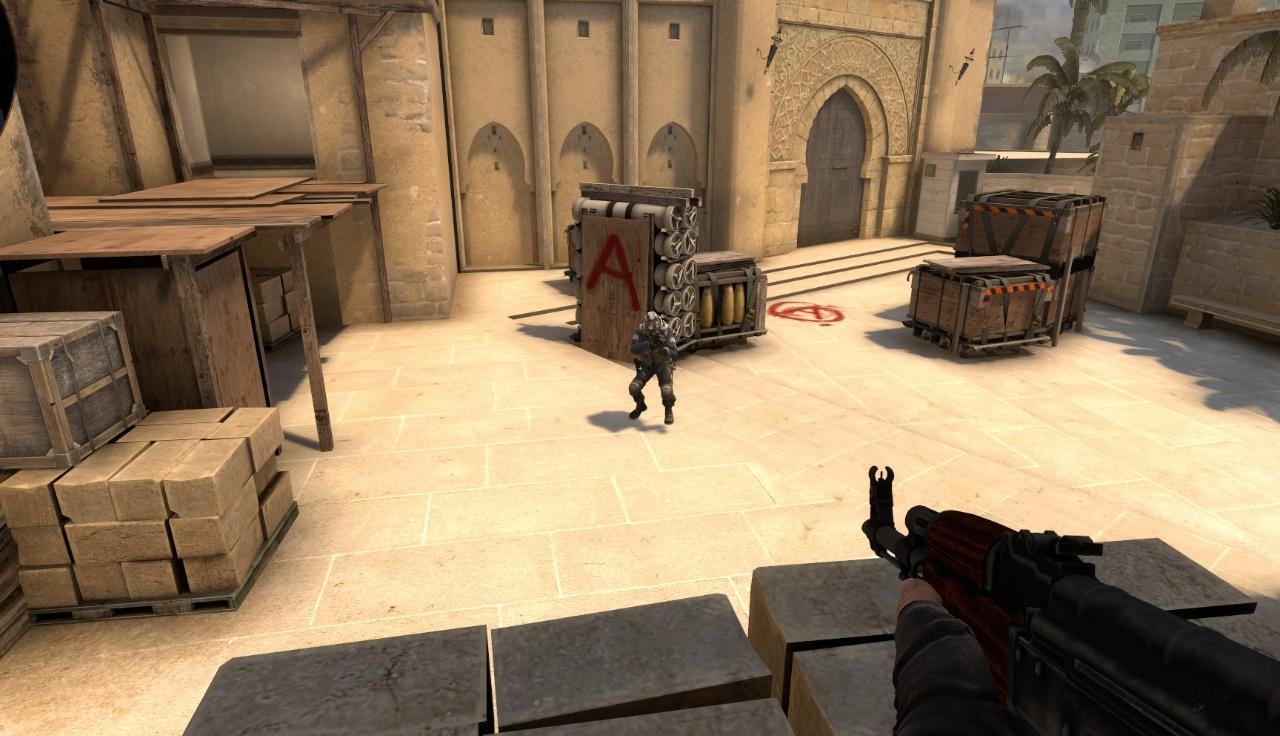ct: (629, 311, 678, 425)
cthead: (645, 312, 661, 334)
rifle: (862, 465, 1280, 736)
